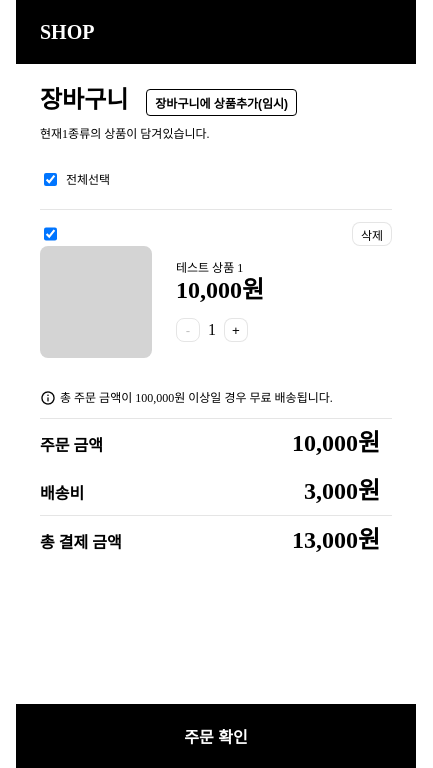
it: CartPage › 상품 삭제버튼을 눌러 성공하면 상품이 삭제되고 화면이 갱신된다
Expected: the text "테스트 상품 1" is shown, [176, 262, 243, 274]
Click the button "삭제" at (372, 234), box [352, 222, 392, 246]
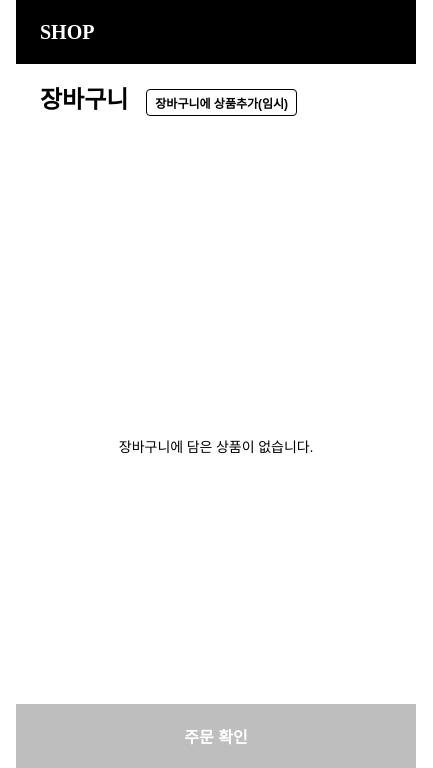
Result: the text "테스트 상품 1" is gone
Result: the text "장바구니에 담은 상품이 없습니다." is shown at [119, 440, 313, 455]
